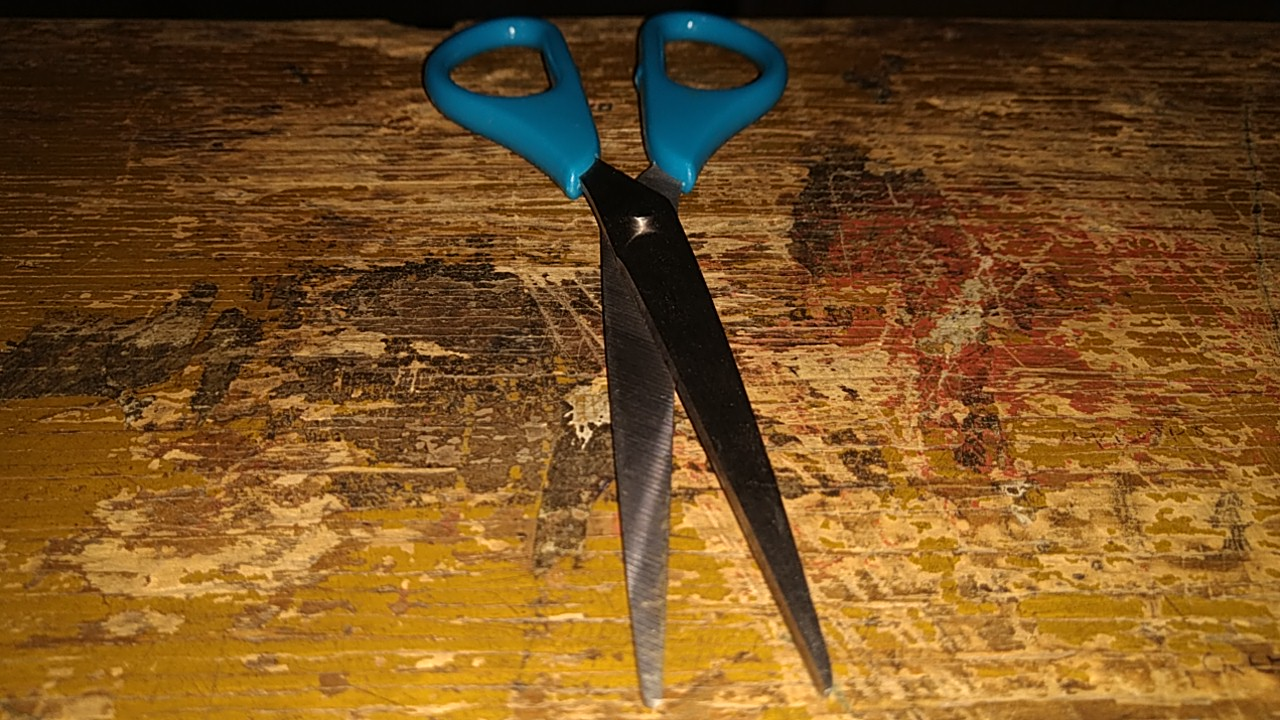scissor: (394, 8, 872, 720)
